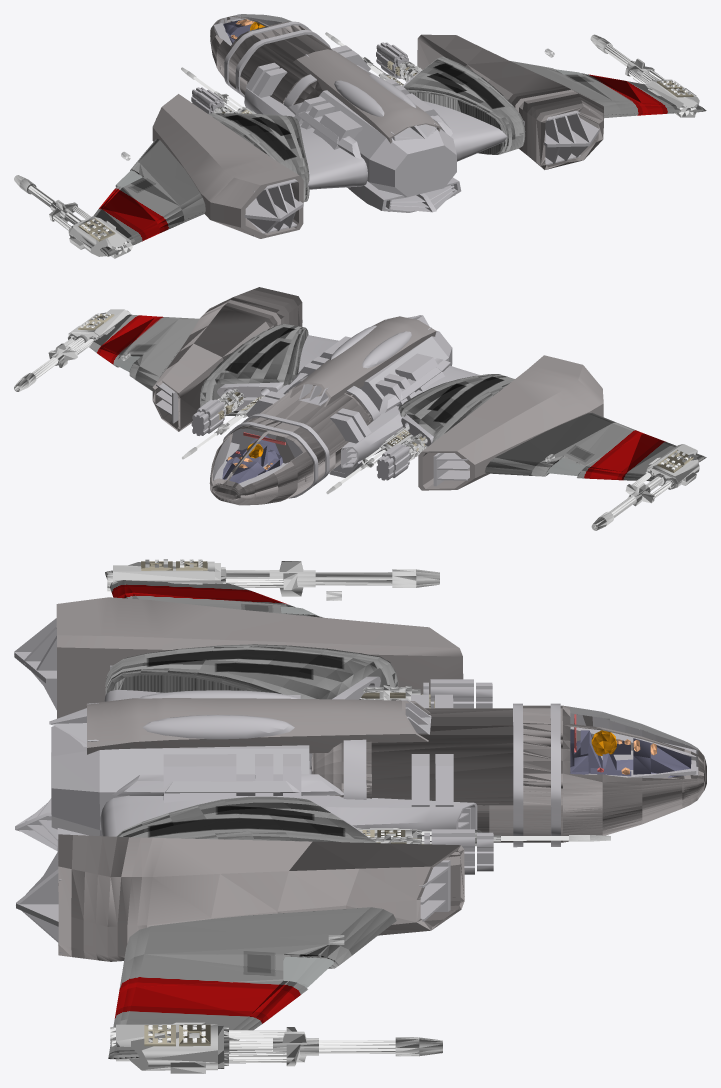
File: gladius.glb
The picture shows the model from 3 angles, top to bottom: view 1: azimuth 30°, elevation 25°; view 2: azimuth 150°, elevation 25°; view 3: azimuth 270°, elevation 25°; orthographic projection. The views are drawn at different scales.
Visible parts, largest first — view 1: gladius_raw; view 2: gladius_raw; view 3: gladius_raw.
Boxes of the visible parts, x1=… form: gladius_raw: x1=14, y1=14, x2=706, y2=258; gladius_raw: x1=14, y1=287, x2=706, y2=530; gladius_raw: x1=14, y1=559, x2=706, y2=1073.
Bounding box in the file's own units: 563 × 78.74 × 330.
Materials: 15 (2 with a texture image).
